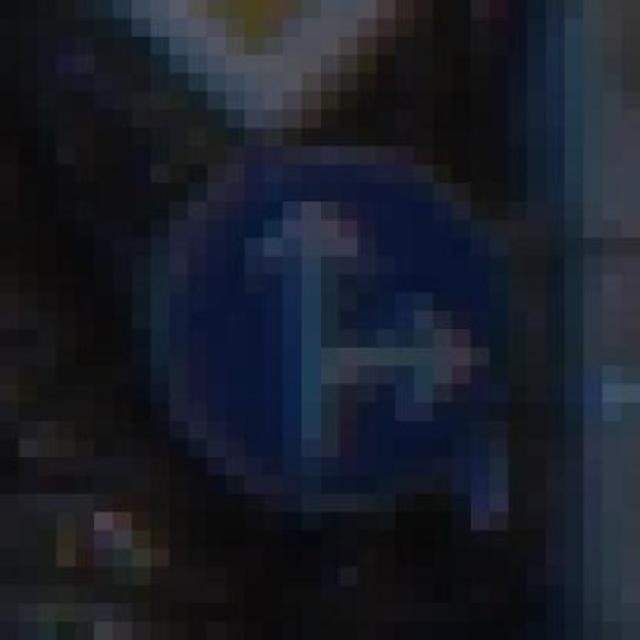Go Straight or Turn Right: (112, 145, 563, 530)
